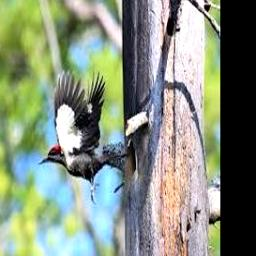Woodpecker: (38, 70, 129, 204)
